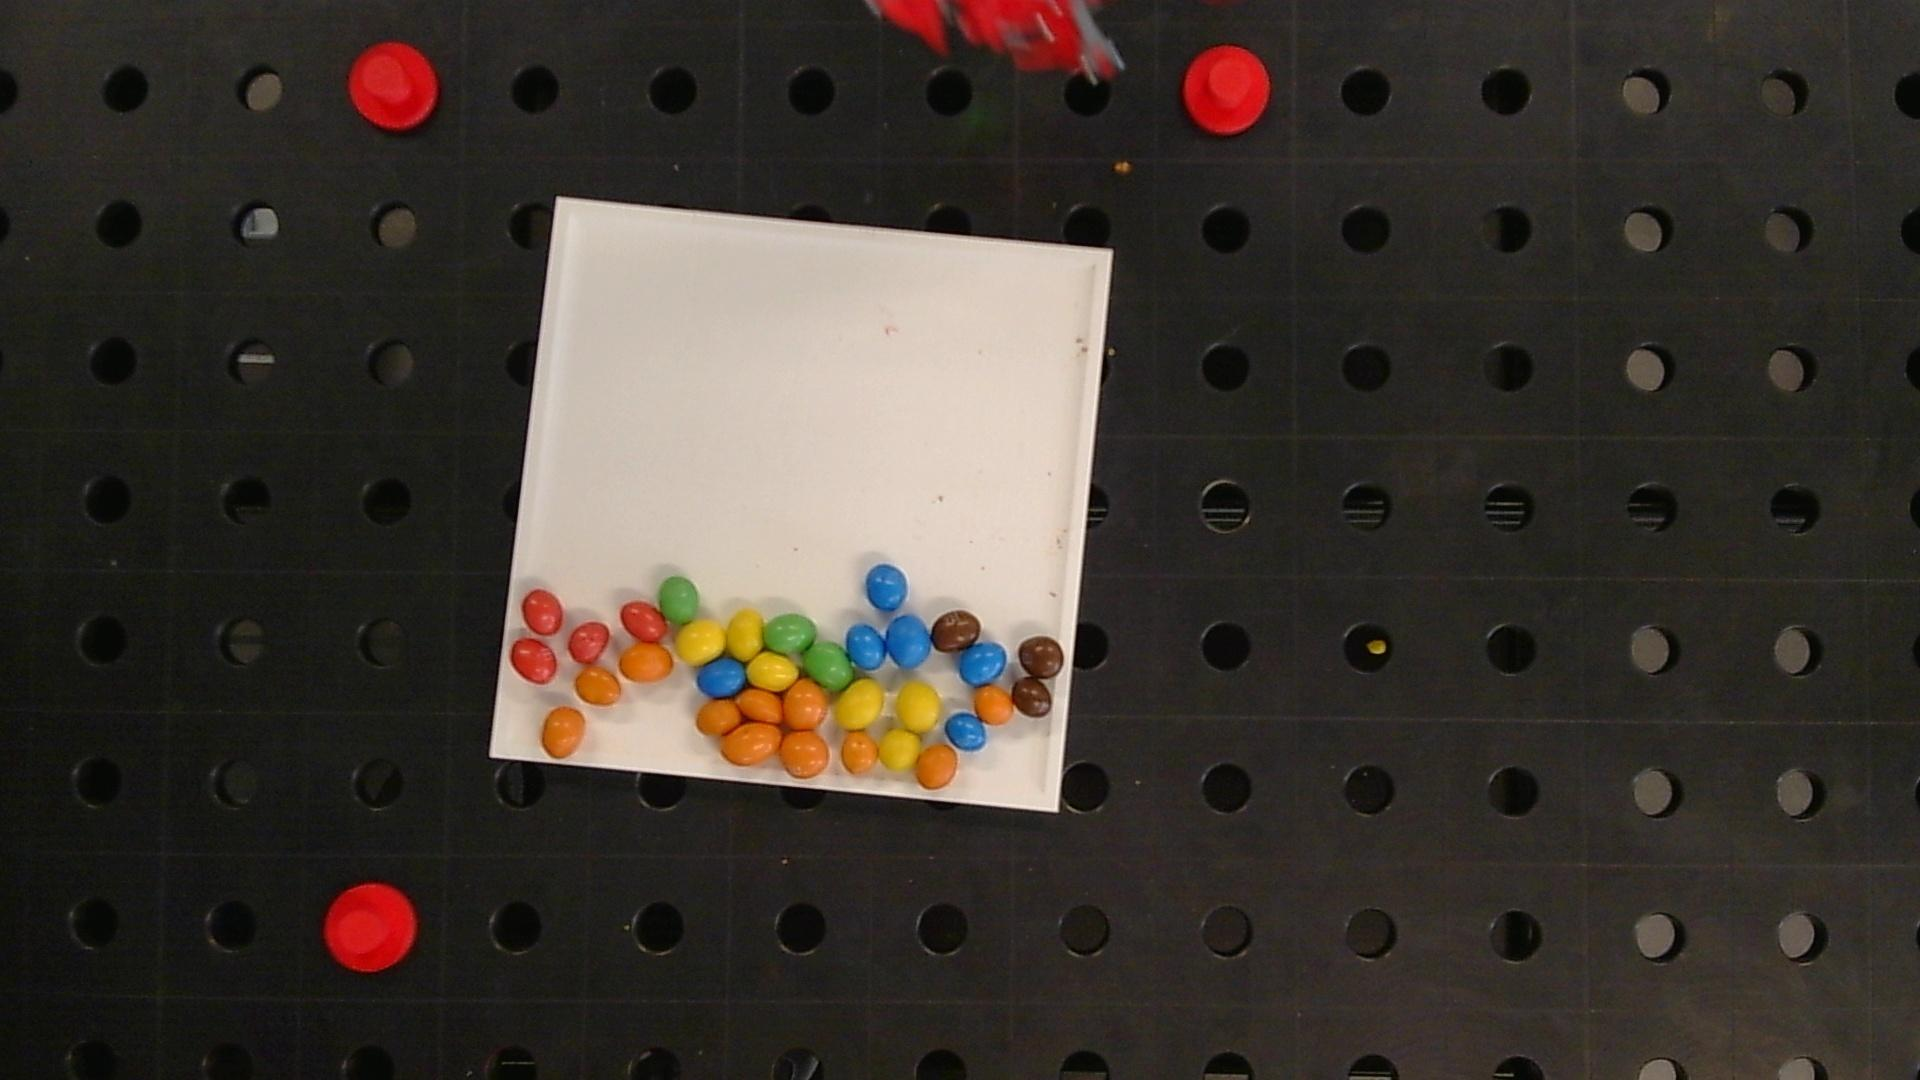blue: (886, 615, 931, 667), (957, 642, 1006, 686), (698, 657, 745, 698), (866, 564, 907, 612), (847, 624, 886, 670), (945, 712, 986, 750)
brown: (932, 609, 981, 651), (1018, 636, 1064, 679), (1011, 679, 1054, 717)
green: (803, 642, 853, 690), (764, 613, 815, 653), (659, 576, 699, 624)
orange: (721, 721, 781, 765), (779, 731, 829, 777), (542, 707, 585, 757), (783, 682, 828, 728), (620, 644, 674, 682), (915, 744, 957, 789), (575, 667, 620, 705), (696, 699, 740, 736), (841, 732, 878, 774), (975, 686, 1014, 724), (737, 688, 781, 721)
red: (510, 640, 558, 683), (521, 589, 563, 634), (620, 601, 667, 641), (567, 621, 611, 663)
yellow: (835, 679, 884, 729), (895, 683, 940, 732), (675, 620, 725, 663), (727, 609, 764, 659), (748, 653, 798, 690), (880, 729, 920, 769)
